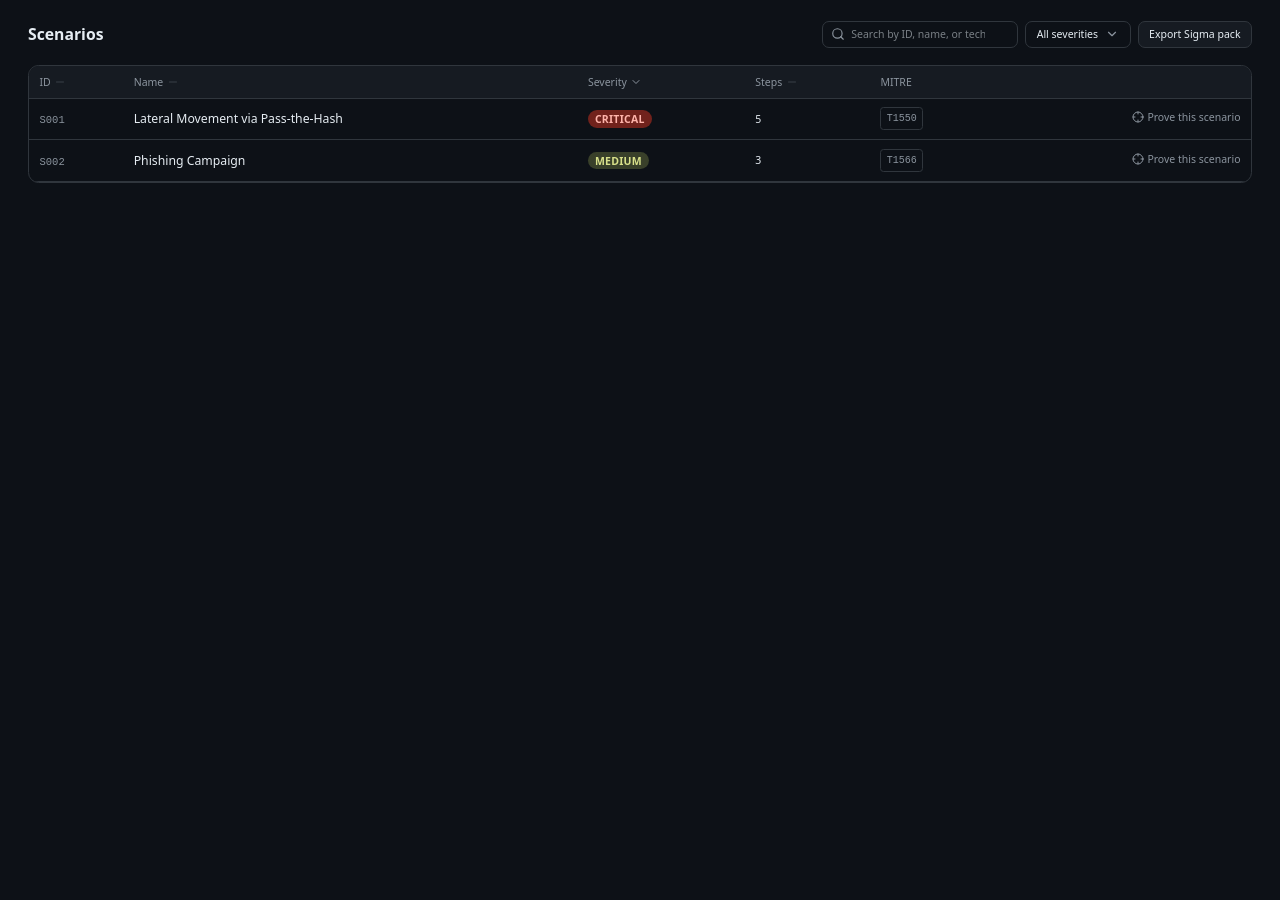
Test: Scenarios page › surfaces an inline error when detail fetch 404s
This screenshot has width=1280, height=900.
Click the button named "view details for Lateral Movement" at (52, 120), box [40,113,65,127]
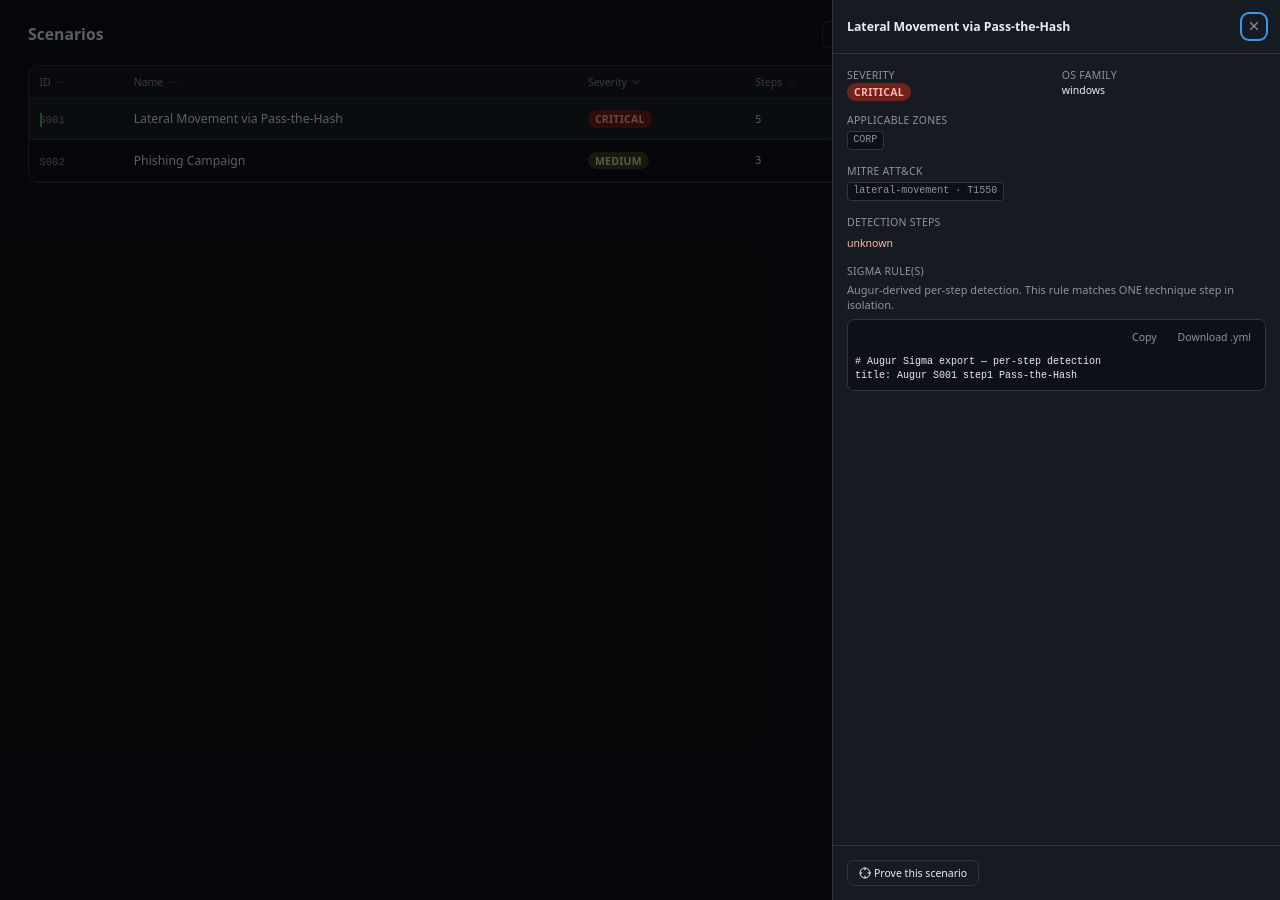
Expected: the text "unknown" is shown, [847,236,893,250]
